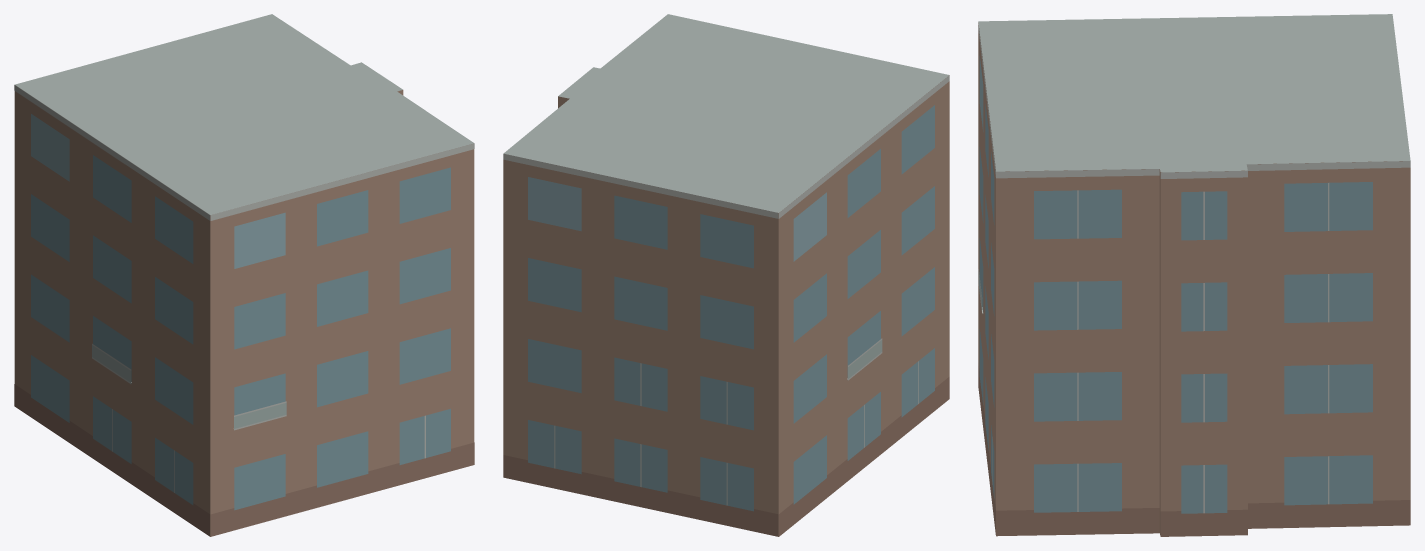
Rendered from survey-upis-32629184.glb.
3 renders of one model, left to right at view 1: azimuth 30°, elevation 25°; view 2: azimuth 150°, elevation 25°; view 3: azimuth 270°, elevation 25°, orthographic. The views are drawn at different scales.
Visible parts, largest first — view 1: survey-upis-32629184.tmp; view 2: survey-upis-32629184.tmp; view 3: survey-upis-32629184.tmp.
Part boxes in pixels (x1,y1,x2,y2): survey-upis-32629184.tmp: [14, 14, 474, 536]; survey-upis-32629184.tmp: [503, 14, 949, 536]; survey-upis-32629184.tmp: [978, 14, 1410, 536].
Bounding box in the file's own units: 12.31 × 13.2 × 14.2.
